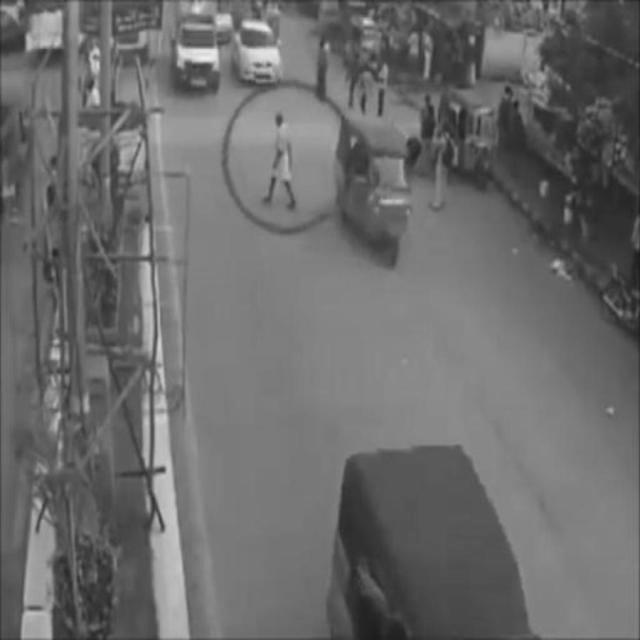person: (260, 113, 300, 213), (431, 120, 449, 212)
vehicle: (330, 455, 536, 637), (334, 112, 412, 266), (444, 88, 500, 188), (173, 12, 223, 95), (232, 17, 284, 85)
